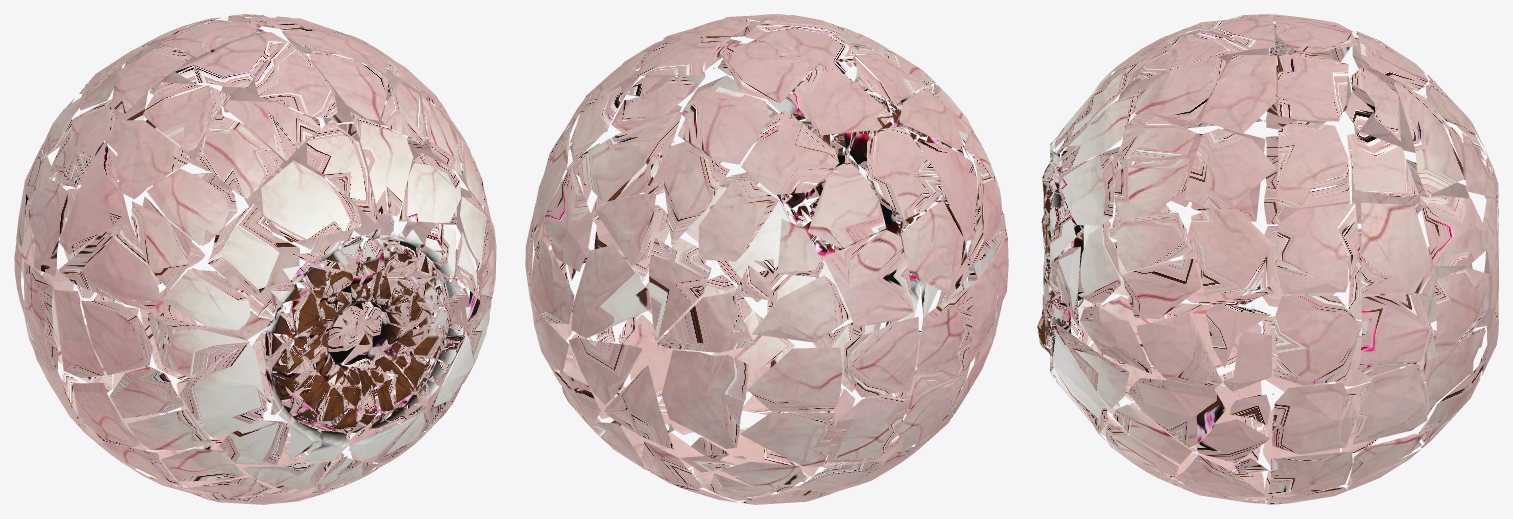
The model's file is olho.glb.
3 renders of one model, left to right at view 1: azimuth 30°, elevation 25°; view 2: azimuth 150°, elevation 25°; view 3: azimuth 270°, elevation 25°, orthographic.
Parts seen in each view (by area): view 1: olho; view 2: olho; view 3: olho.
Part boxes in pixels (box(x1,y1,x2,y2)): olho: box(14, 14, 496, 504); olho: box(525, 14, 1008, 504); olho: box(1037, 14, 1498, 504).
Size of the model in its own units: 0.2382 by 0.2468 by 0.2323.
1 material, 1 textured.
